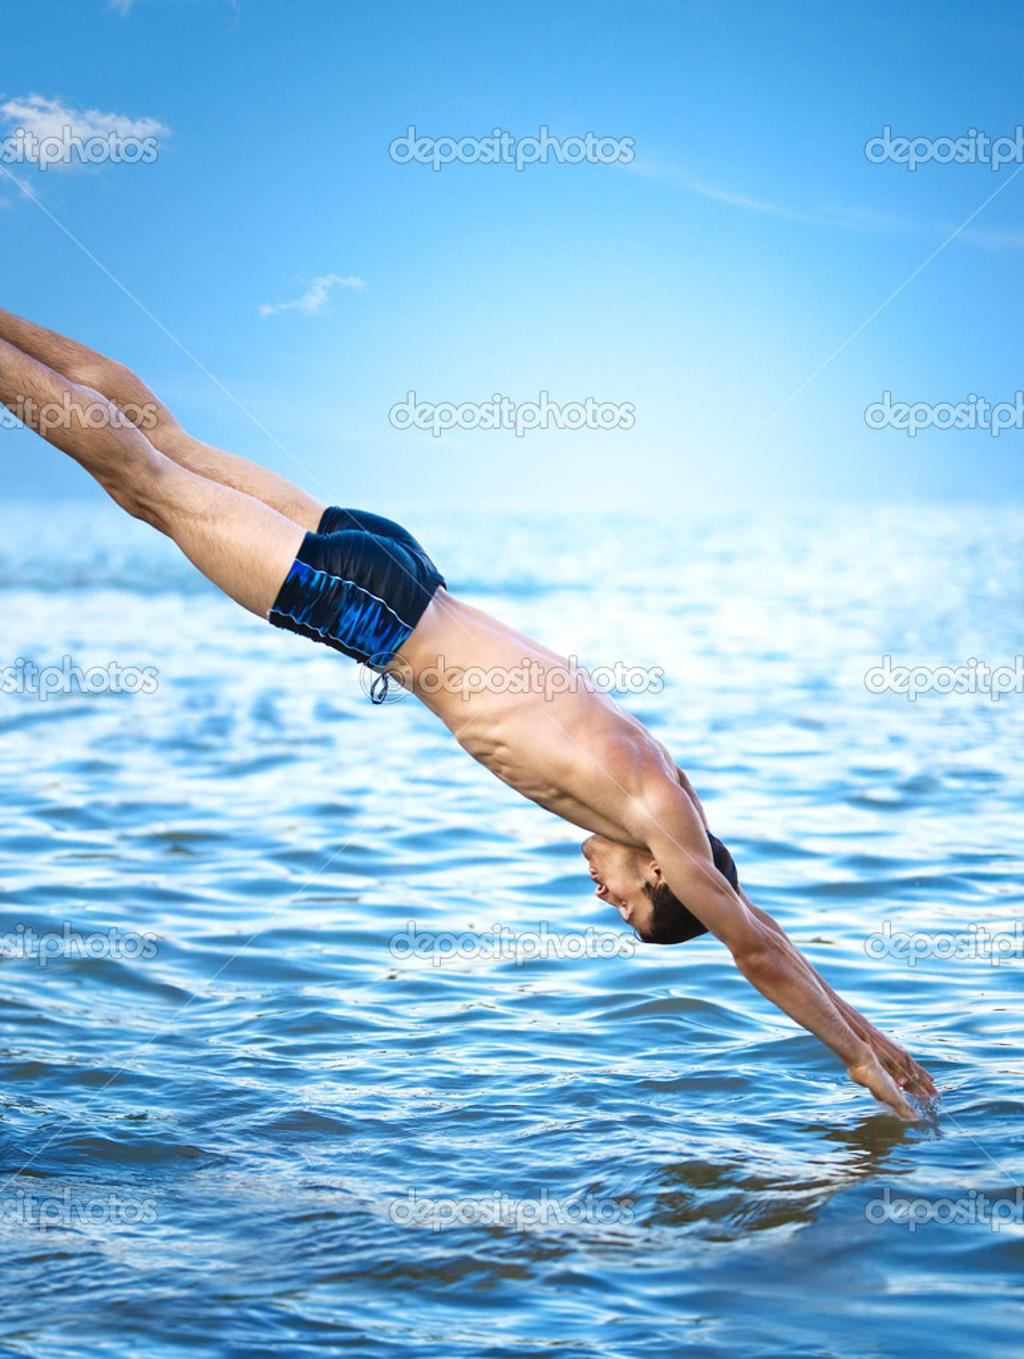face: (578, 833, 679, 947)
